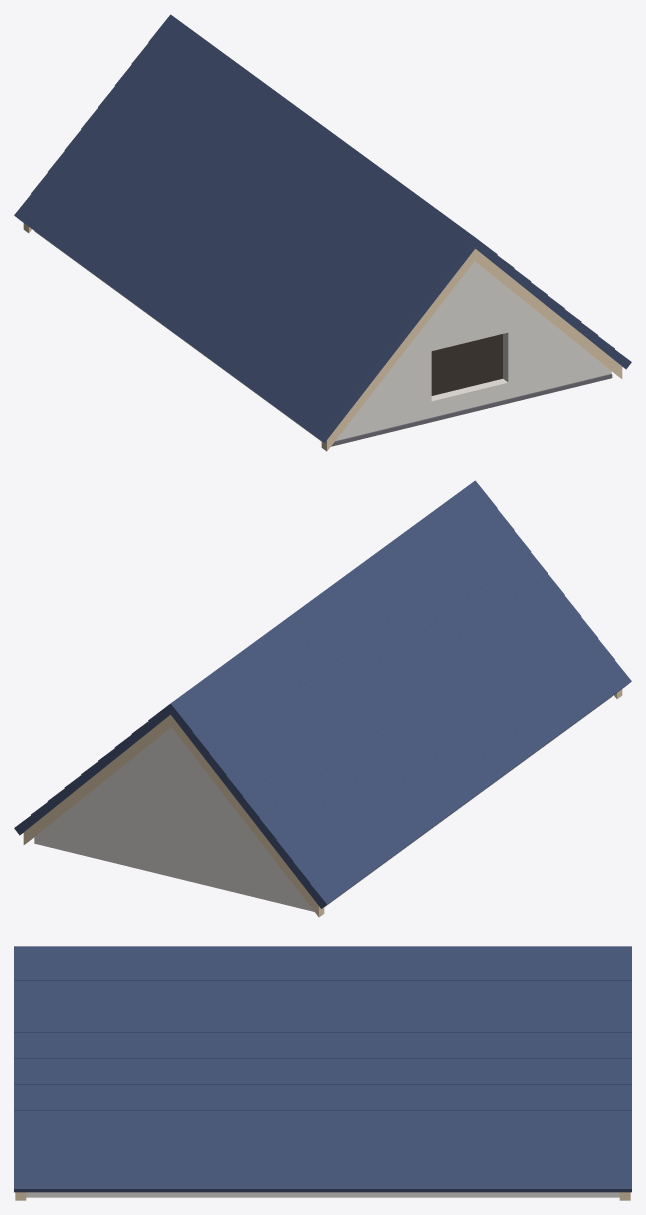
File: SM_Roof_NarrowGable_White_455_01.gltf
3 renders of one model, top to bottom at view 1: azimuth 30°, elevation 25°; view 2: azimuth 150°, elevation 25°; view 3: azimuth 270°, elevation 25°, orthographic.
Visible parts, largest first — view 1: SM_Roof_NarrowGable_White_455_01; view 2: SM_Roof_NarrowGable_White_455_01; view 3: SM_Roof_NarrowGable_White_455_01.
Part boxes in pixels (x1=…): SM_Roof_NarrowGable_White_455_01: x1=14, y1=14, x2=631, y2=451; SM_Roof_NarrowGable_White_455_01: x1=14, y1=480, x2=631, y2=917; SM_Roof_NarrowGable_White_455_01: x1=14, y1=946, x2=631, y2=1200.
Size of the model in its own units: 5.04 by 2.74 by 8.49.
Materials: 1 (1 with a texture image).
